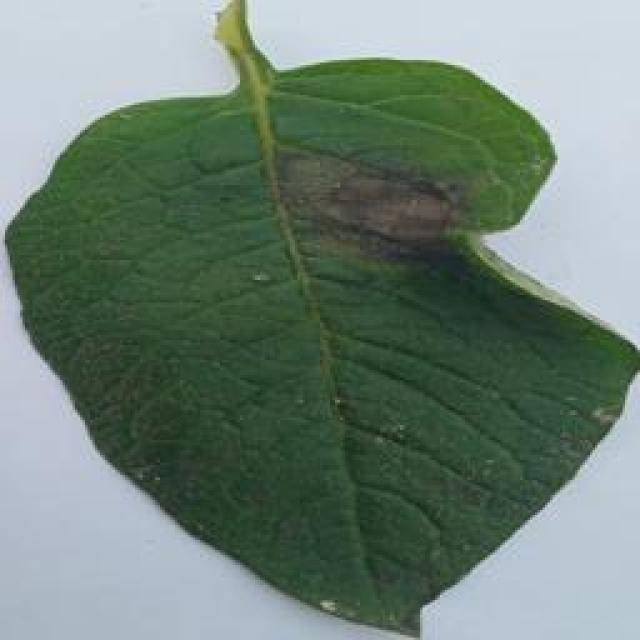Potato_Late_Blight: (9, 6, 626, 635)
